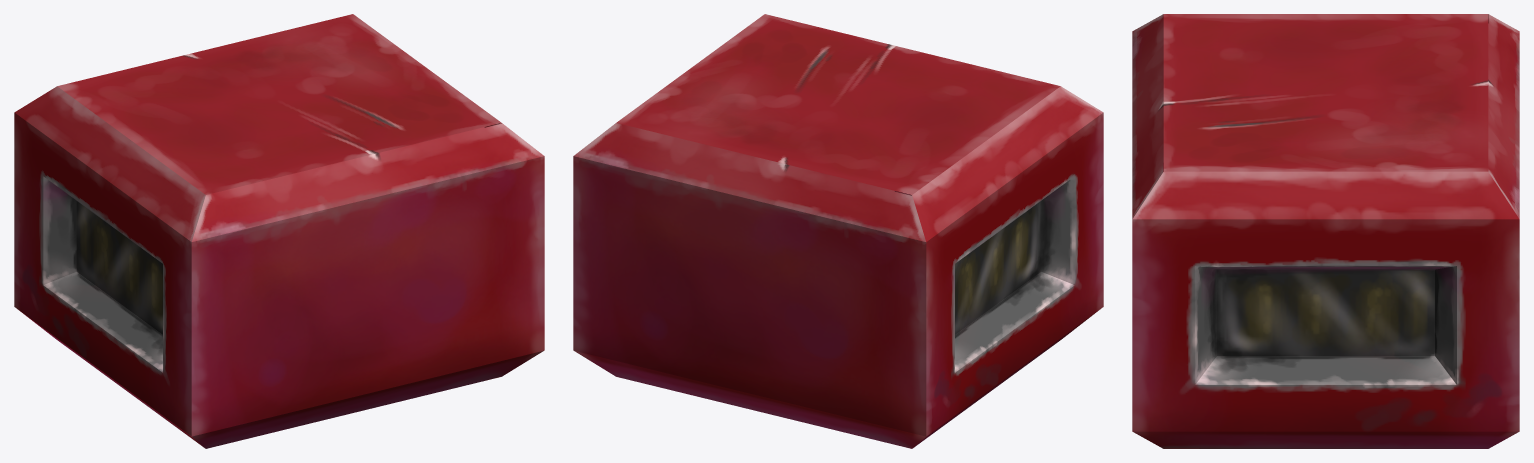
Rendered from p_ammo.fbx.
3 renders of one model, left to right at view 1: azimuth 30°, elevation 25°; view 2: azimuth 150°, elevation 25°; view 3: azimuth 270°, elevation 25°, orthographic. The views are drawn at different scales.
Parts seen in each view (by area): view 1: Ammo; view 2: Ammo; view 3: Ammo.
Part boxes in pixels (<box>): Ammo: <box>14,14,544,448</box>; Ammo: <box>573,14,1103,448</box>; Ammo: <box>1132,14,1519,448</box>.
Bounding box in the file's own units: 72.71 × 50 × 63.28.
Materials: 1 (1 with a texture image).
